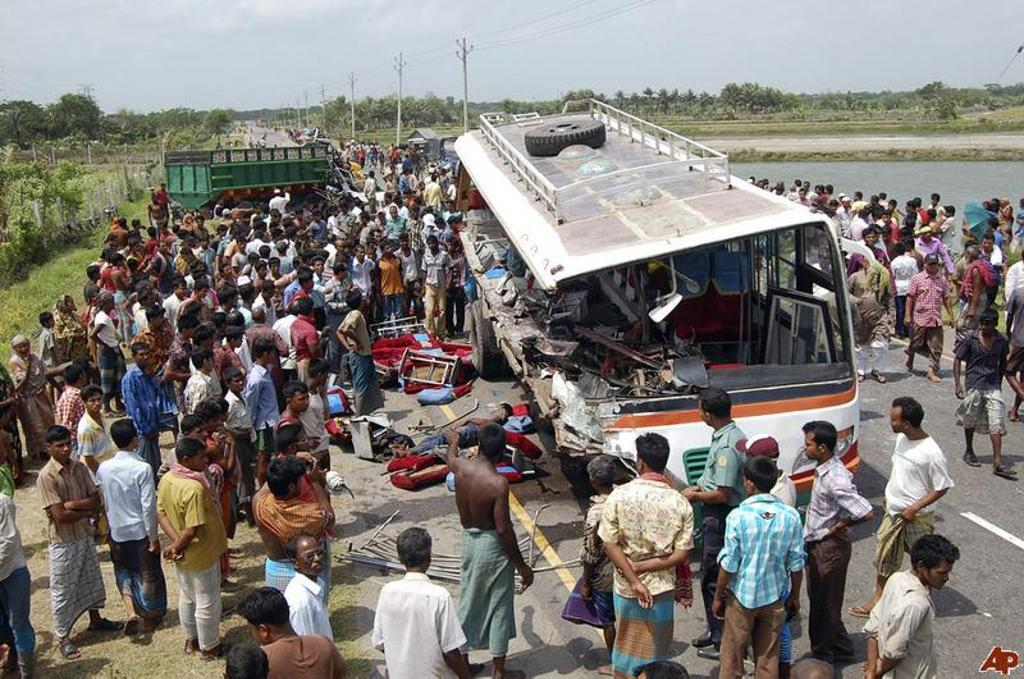face: (300, 541, 325, 574), (929, 563, 950, 590), (805, 436, 825, 460), (890, 408, 908, 433), (54, 439, 71, 461), (252, 622, 268, 644), (294, 393, 310, 413), (193, 451, 207, 472), (194, 425, 209, 444), (700, 405, 712, 428), (297, 432, 310, 451), (744, 476, 756, 496), (137, 350, 151, 366), (88, 397, 102, 412), (291, 478, 302, 497), (204, 417, 217, 432), (981, 320, 992, 337), (233, 378, 245, 393), (206, 355, 216, 371), (983, 239, 994, 253), (155, 314, 165, 328), (17, 345, 29, 356), (216, 411, 228, 422), (928, 262, 939, 274), (866, 235, 876, 248), (268, 348, 276, 364), (922, 229, 932, 241), (187, 323, 195, 337), (321, 370, 328, 385), (902, 232, 911, 243), (67, 300, 75, 312), (178, 287, 186, 299), (147, 295, 155, 307), (236, 336, 243, 349), (882, 233, 891, 243), (271, 213, 279, 224), (316, 263, 324, 274), (231, 294, 238, 306), (385, 246, 393, 256), (200, 288, 208, 298), (262, 248, 270, 258), (201, 309, 208, 320), (375, 233, 382, 244), (341, 202, 348, 213), (109, 298, 115, 310), (250, 256, 258, 265), (874, 230, 881, 240), (883, 215, 890, 225), (48, 318, 55, 328), (260, 268, 267, 278), (239, 242, 246, 252), (358, 250, 365, 260), (267, 288, 274, 298), (161, 243, 167, 254), (152, 260, 158, 271), (82, 372, 87, 385), (224, 268, 232, 276), (428, 242, 436, 250), (286, 224, 294, 232), (361, 299, 368, 308), (299, 262, 306, 271), (368, 252, 375, 261), (402, 240, 409, 249), (448, 243, 455, 252), (341, 269, 348, 278), (410, 198, 417, 207), (965, 252, 971, 262), (307, 278, 313, 288), (272, 265, 279, 273), (390, 210, 397, 218), (183, 255, 190, 263), (155, 194, 162, 202), (223, 319, 227, 333), (277, 242, 284, 250), (338, 244, 345, 251), (202, 240, 209, 247), (451, 224, 457, 232), (311, 245, 317, 253), (890, 204, 896, 212), (866, 207, 872, 215), (134, 244, 140, 252), (234, 227, 240, 235), (336, 253, 342, 261), (294, 305, 299, 314), (777, 186, 782, 195), (409, 211, 415, 218), (992, 203, 998, 210), (237, 220, 243, 227), (385, 196, 390, 204), (448, 204, 453, 212), (262, 225, 267, 233), (759, 184, 764, 192), (932, 199, 937, 207), (915, 202, 920, 210), (844, 201, 850, 207), (832, 208, 836, 217), (316, 214, 322, 220), (362, 218, 368, 224), (370, 201, 375, 208), (380, 215, 385, 222), (828, 188, 833, 195), (871, 198, 876, 205), (880, 209, 885, 216), (946, 211, 951, 218), (906, 206, 911, 213), (1000, 201, 1005, 208), (198, 220, 203, 227), (96, 272, 101, 279), (119, 259, 124, 266), (256, 207, 261, 214), (912, 221, 916, 229), (800, 193, 805, 199), (840, 197, 845, 203), (222, 230, 227, 236), (136, 223, 141, 229), (298, 216, 303, 222), (854, 195, 858, 202), (804, 185, 808, 191), (985, 205, 989, 211), (278, 233, 281, 240), (791, 189, 795, 194), (797, 184, 801, 189), (818, 191, 823, 195)
